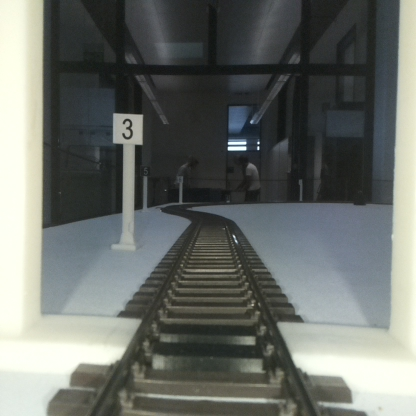white-info-3: (112, 113, 142, 249)
